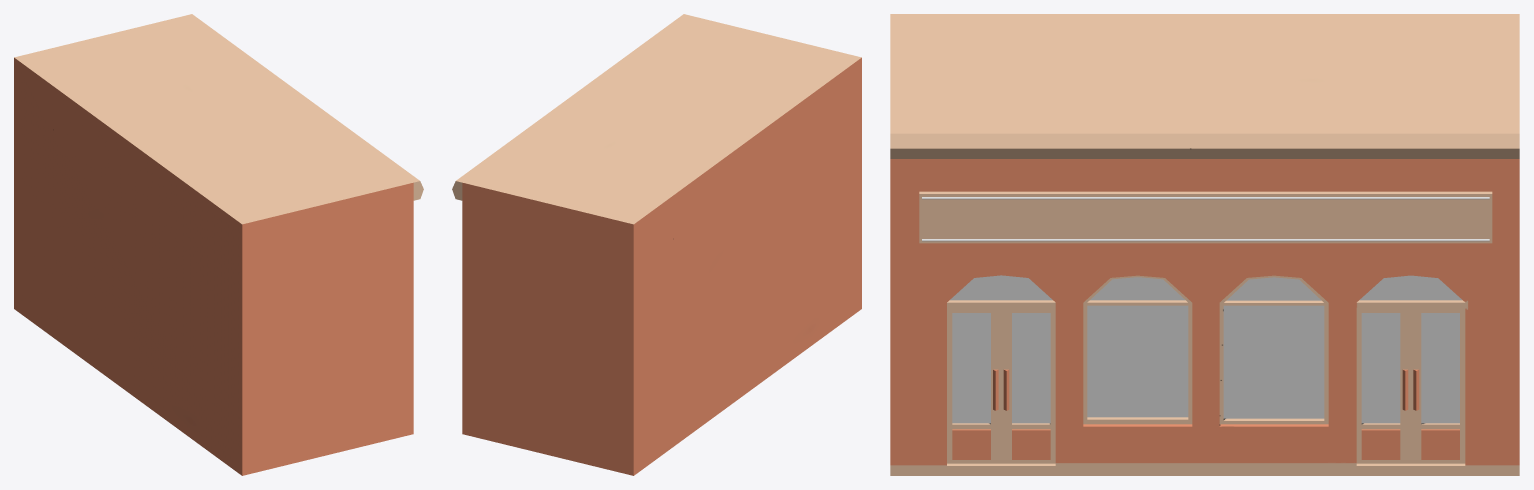
The model's file is model-scenario-static-level0-building-6.fbx.
The picture shows the model from 3 angles, left to right: view 1: azimuth 30°, elevation 25°; view 2: azimuth 150°, elevation 25°; view 3: azimuth 270°, elevation 25°; orthographic projection. The views are drawn at different scales.
Parts seen in each view (by area): view 1: building; view 2: building; view 3: building.
Boxes of the visible parts, left/top/right/bottom form: building: left=14, top=14, right=423, bottom=475; building: left=452, top=14, right=861, bottom=475; building: left=890, top=14, right=1519, bottom=475.
Bounding box in the file's own units: 23.05 × 10.6 × 14.02.
Materials: 4 (2 with a texture image).
